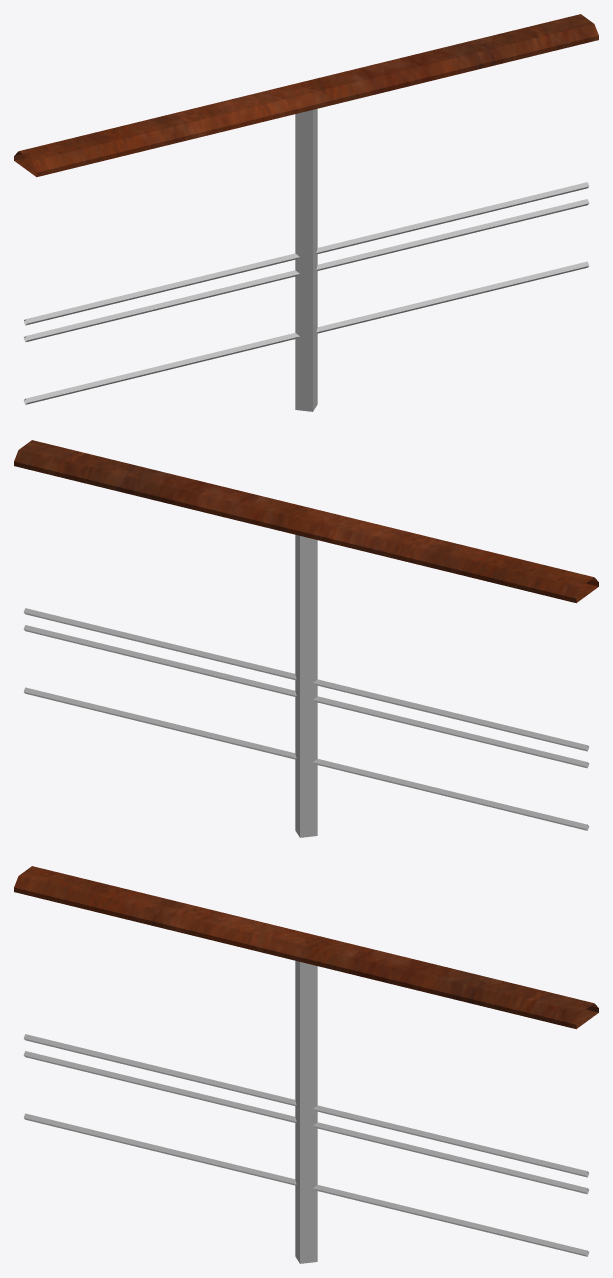
Rendered from Railing_02_Art.fbx.
The picture shows the model from 3 angles, top to bottom: view 1: azimuth 30°, elevation 25°; view 2: azimuth 150°, elevation 25°; view 3: azimuth 330°, elevation 25°; orthographic projection.
Visible parts, largest first — view 1: Railing_02; view 2: Railing_02; view 3: Railing_02.
Boxes of the visible parts, x1,y1,x2,y2 form: Railing_02: (14, 14, 598, 411); Railing_02: (14, 440, 598, 837); Railing_02: (14, 866, 598, 1263).
Size of the model in its own units: 260 by 141 by 18.12.
